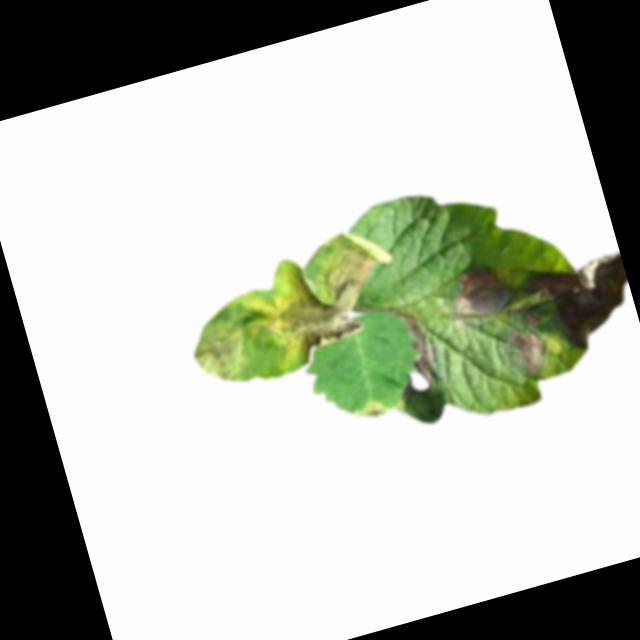Late_blight: (251, 237, 409, 367), (524, 250, 640, 363), (181, 309, 256, 395), (442, 258, 517, 328), (395, 303, 441, 391), (504, 323, 552, 384), (348, 400, 388, 428)
